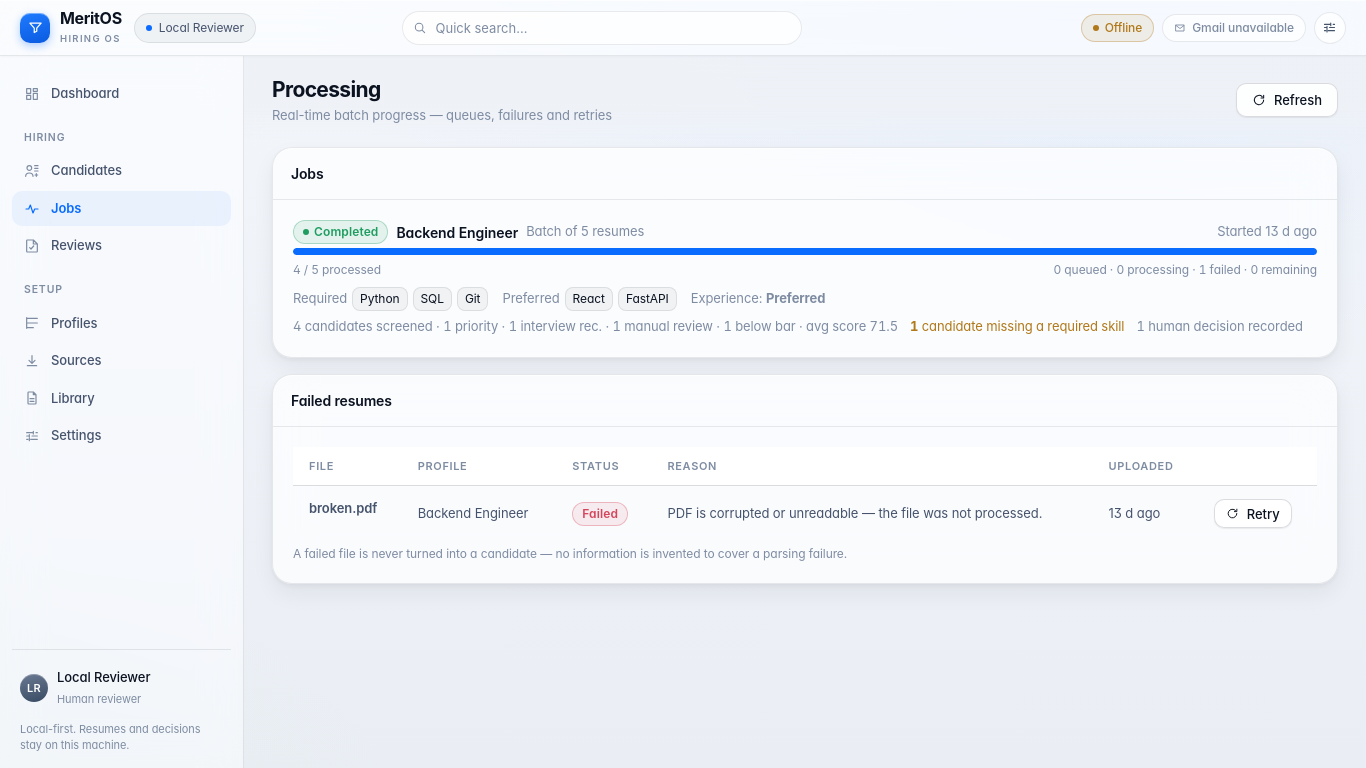
processing page › lists failures with a reason and re-queues a failed resume on retry
The image size is (1366, 768).
Expected: the text "broken.pdf" is shown, [293,486,402,532]
Expected: the text "PDF is corrupted or unreadable — the file was not processed." is shown, [651,486,1092,541]
Click the button "Retry".
click(1253, 514)  # box [1214,499,1292,528]
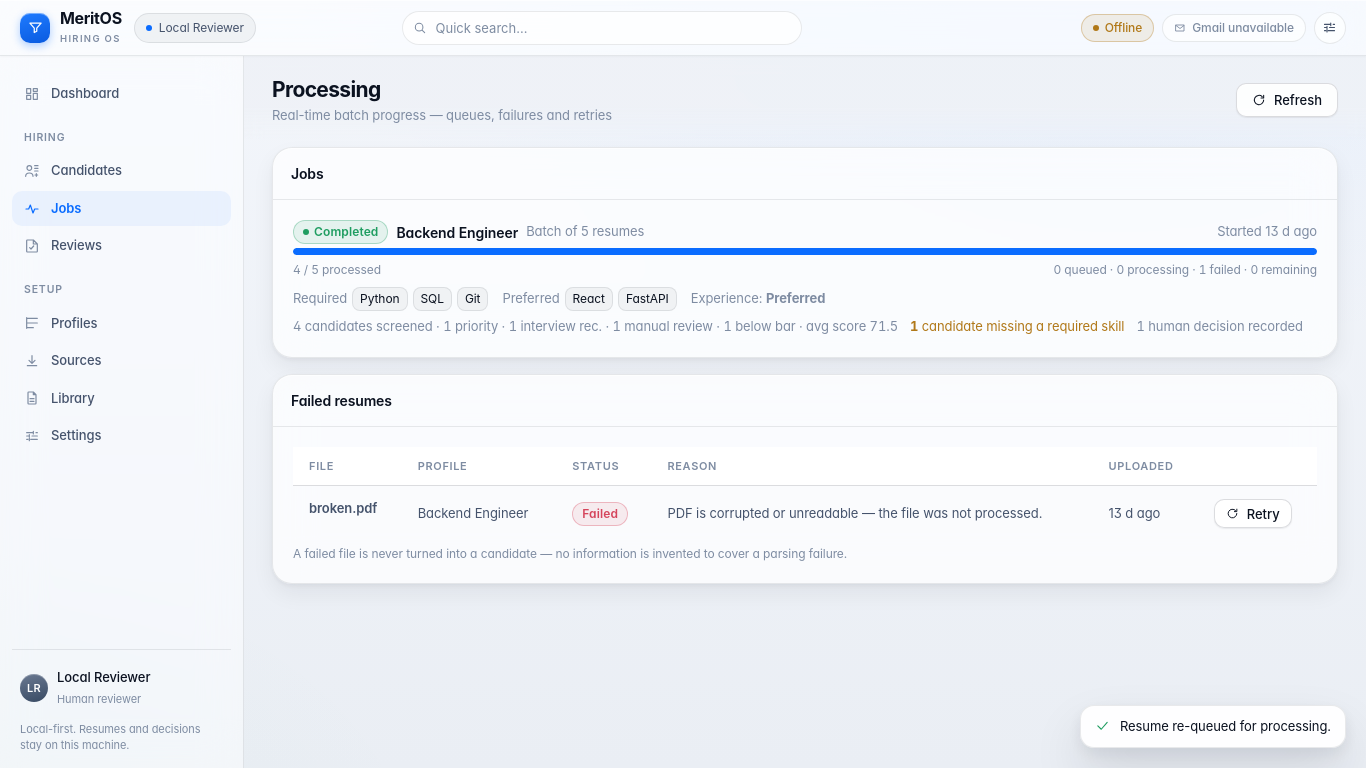
Result: the text "Resume re-queued for processing." is shown at [1120,716,1331,736]
